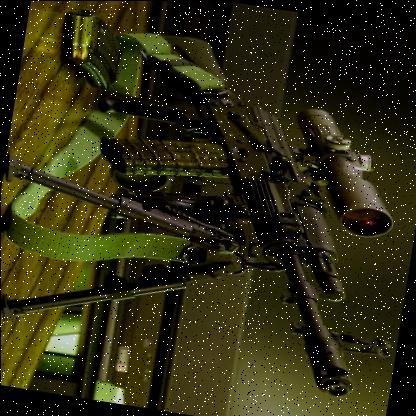rifle: (52, 21, 416, 395)
